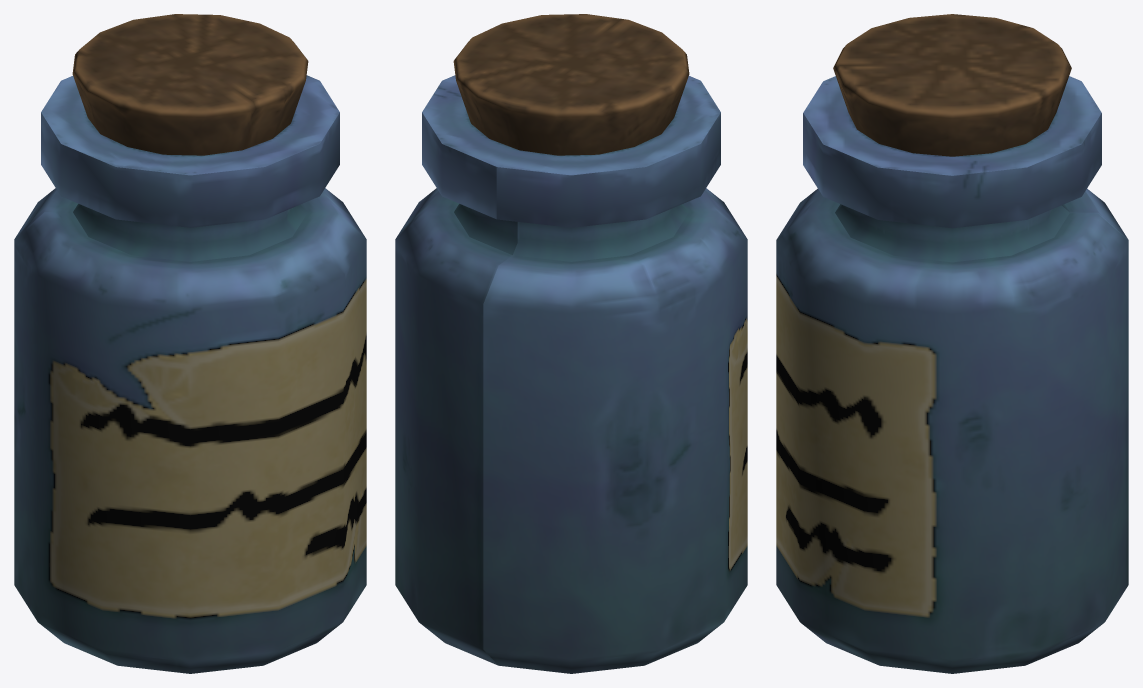
The model's file is SM_Potion_01.fbx.
3 views of the same model, side by side, from view 1: azimuth 30°, elevation 25°; view 2: azimuth 150°, elevation 25°; view 3: azimuth 270°, elevation 25° (orthographic).
Visible parts, largest first — view 1: SM_Potion_02; view 2: SM_Potion_02; view 3: SM_Potion_02.
Boxes of the visible parts, x1,y1,x2,y2 form: SM_Potion_02: [14, 14, 366, 673]; SM_Potion_02: [395, 14, 747, 673]; SM_Potion_02: [776, 14, 1128, 673].
Bounding box in the file's own units: 12.68 × 21.85 × 12.68.
Materials: 1 (1 with a texture image).
